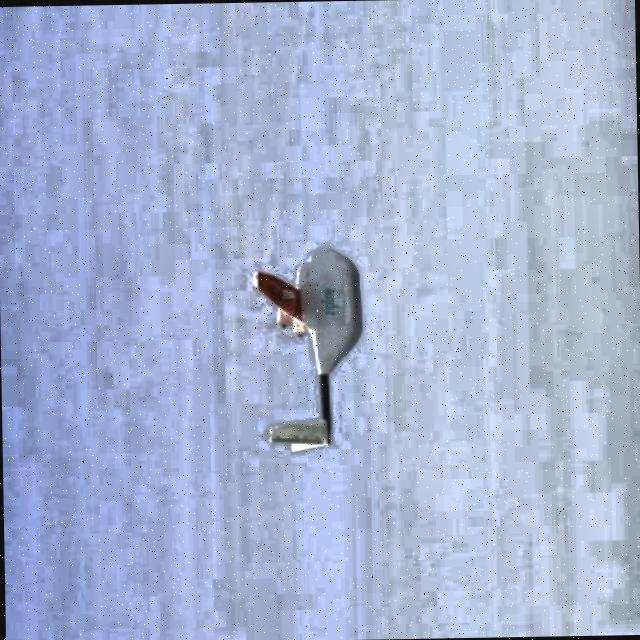iha: (275, 233, 337, 463)
